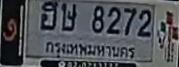2: (106, 6, 120, 33), (137, 9, 150, 36)
7: (123, 7, 136, 35)
8: (91, 5, 103, 32)
A39: (61, 2, 76, 30)
A44: (40, 1, 57, 30)
BKK: (41, 38, 139, 61)
